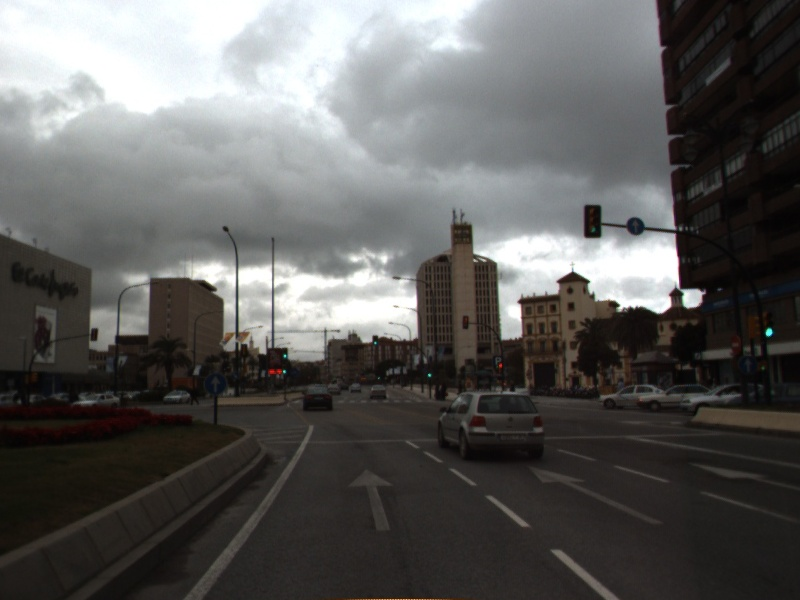STRAIGHT: (527, 464, 667, 527), (687, 461, 800, 492), (345, 466, 397, 533)
